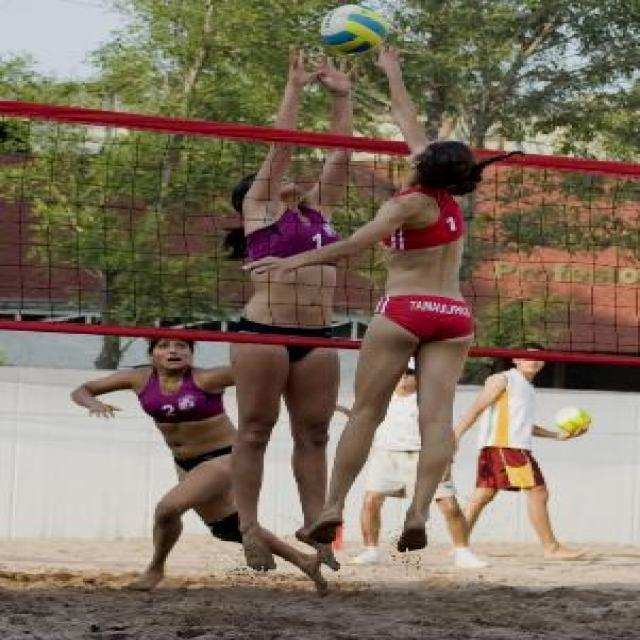volleyball: (320, 4, 388, 55)
